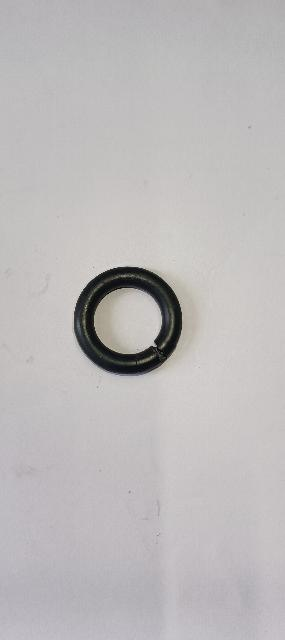crack: (150, 336, 170, 366)
scratch: (130, 351, 141, 377)
